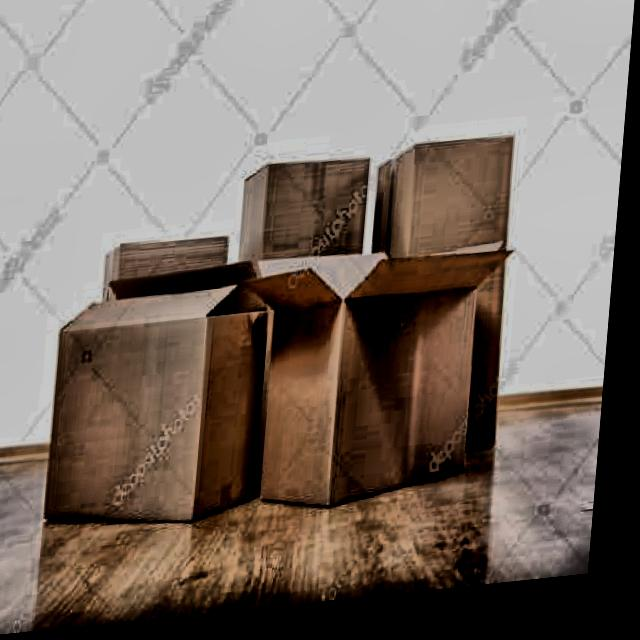Cardbox: (240, 232, 518, 528), (22, 291, 309, 567), (344, 149, 542, 499), (226, 140, 402, 297)
